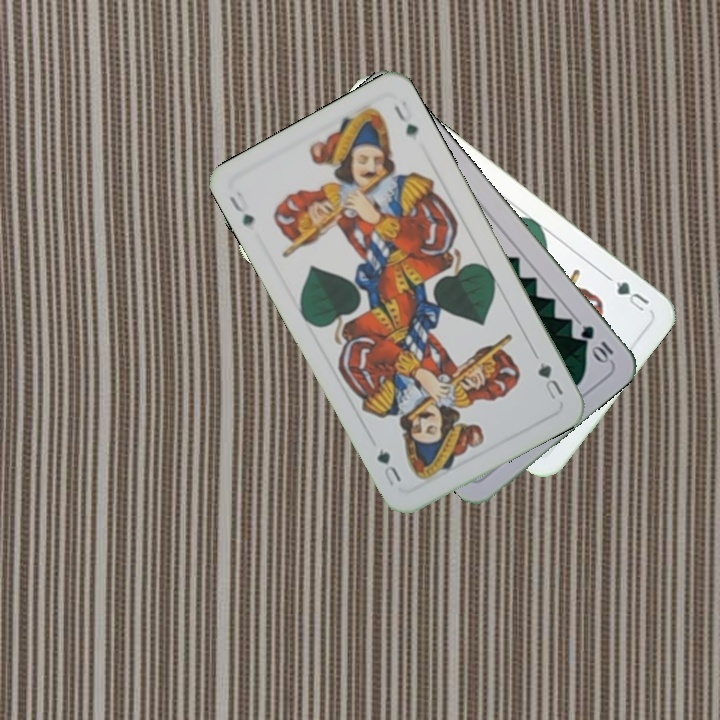G10: (576, 321, 616, 367)
GU: (603, 272, 652, 314), (533, 357, 566, 402), (225, 192, 257, 229)
